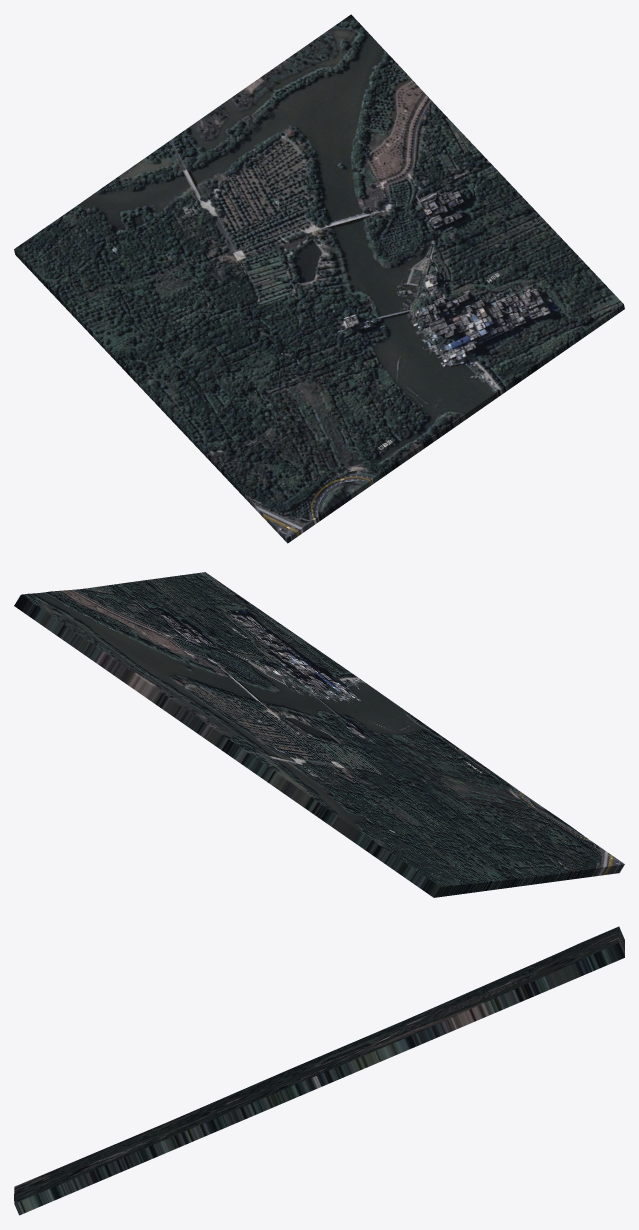
The picture shows the model from 3 angles, top to bottom: view 1: azimuth 30°, elevation 25°; view 2: azimuth 150°, elevation 25°; view 3: azimuth 270°, elevation 25°; orthographic projection. The views are drawn at different scales.
Visible parts, largest first — view 1: 0_21_25; view 2: 0_21_25; view 3: 0_21_25.
Part boxes in pixels (bbox=[...]): 0_21_25: bbox=[14, 14, 624, 543]; 0_21_25: bbox=[14, 572, 624, 897]; 0_21_25: bbox=[14, 926, 624, 1215].
Bounding box in the file's own units: 597 × 440 × 547.
Materials: 1 (1 with a texture image).
